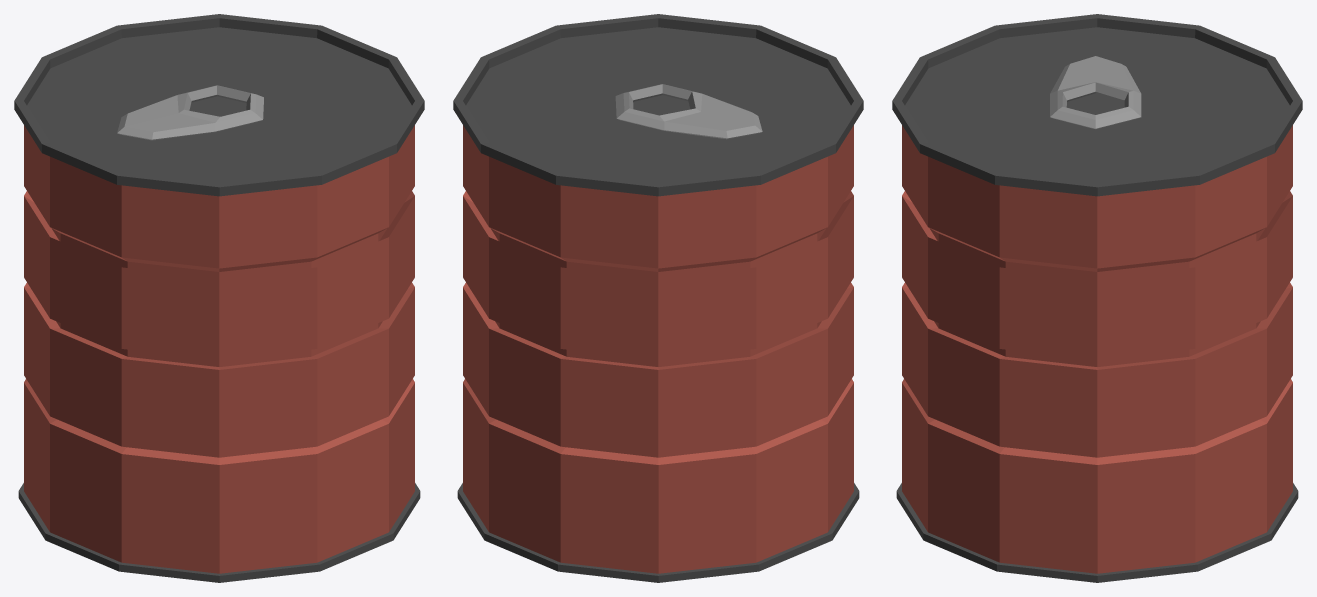
Rendered from LataGrande.fbx.
3 renders of one model, left to right at view 1: azimuth 30°, elevation 25°; view 2: azimuth 150°, elevation 25°; view 3: azimuth 270°, elevation 25°, orthographic.
Parts seen in each view (by area): view 1: LataG, BocaG; view 2: LataG, BocaG; view 3: LataG, BocaG.
Part boxes in pixels (x1=…): LataG: x1=14, y1=14, x2=424, y2=582; BocaG: x1=117, y1=85, x2=263, y2=140; LataG: x1=453, y1=14, x2=863, y2=582; BocaG: x1=615, y1=84, x2=762, y2=139; LataG: x1=892, y1=14, x2=1302, y2=582; BocaG: x1=1050, y1=56, x2=1141, y2=129.
Bounding box in the file's own units: 2.1 × 2.24 × 2.1.
